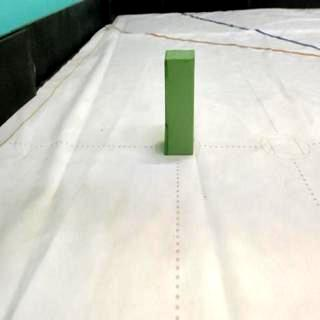greenbox: (164, 48, 198, 158)
